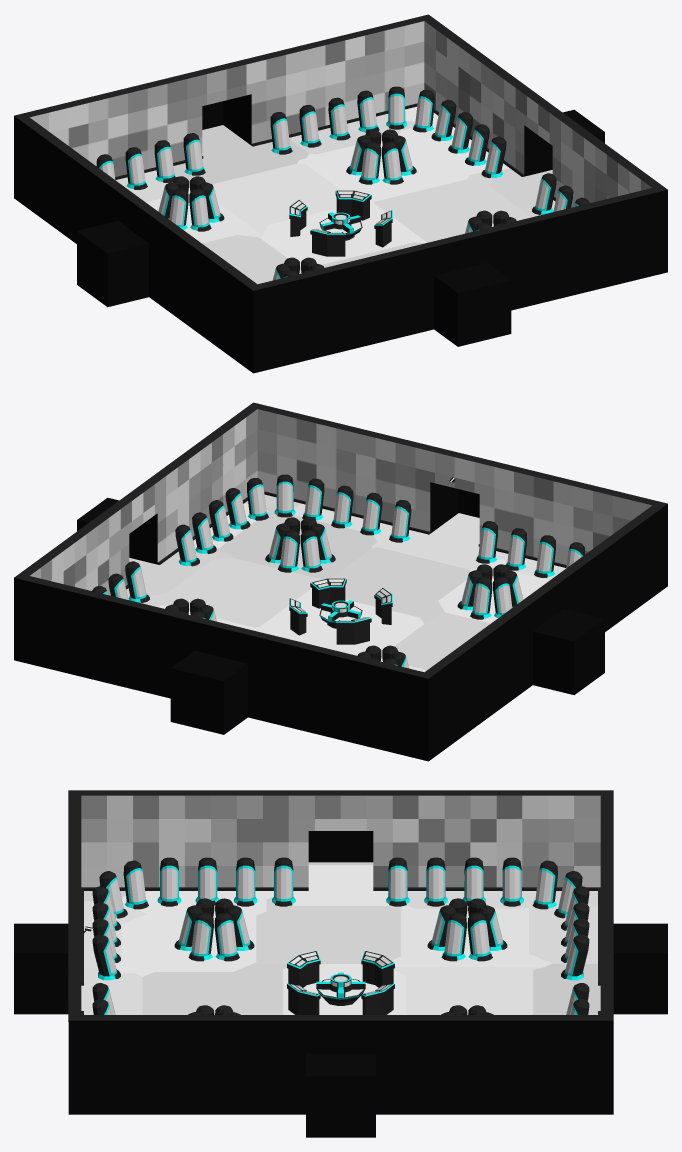
The model's file is Hibernation_Room_1x1x4.fbx.
3 renders of one model, top to bottom at view 1: azimuth 30°, elevation 25°; view 2: azimuth 150°, elevation 25°; view 3: azimuth 270°, elevation 25°, orthographic. The views are drawn at different scales.
Parts seen in each view (by area): view 1: Hibernation_Room_1x1x4; view 2: Hibernation_Room_1x1x4; view 3: Hibernation_Room_1x1x4.
Boxes of the visible parts, <box> form: Hibernation_Room_1x1x4: <box>14,14,667,373</box>; Hibernation_Room_1x1x4: <box>14,402,667,761</box>; Hibernation_Room_1x1x4: <box>14,790,667,1137</box>.
Bounding box in the file's own units: 50.4 × 50.4 × 8.
